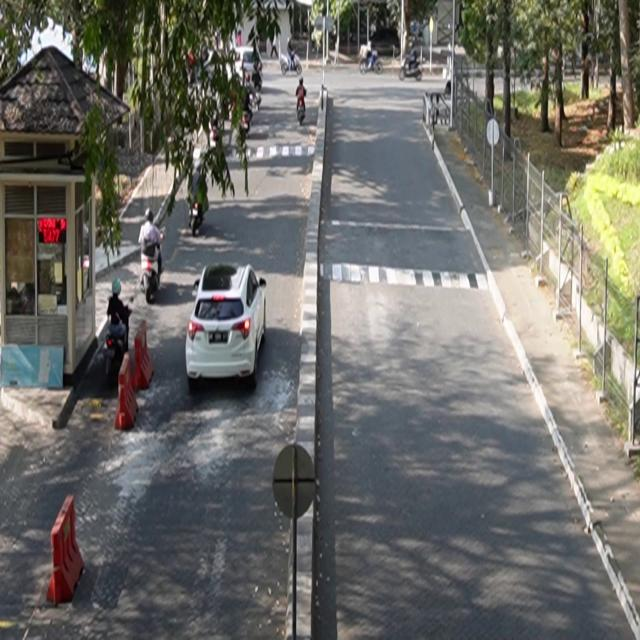car: (186, 263, 268, 389)
